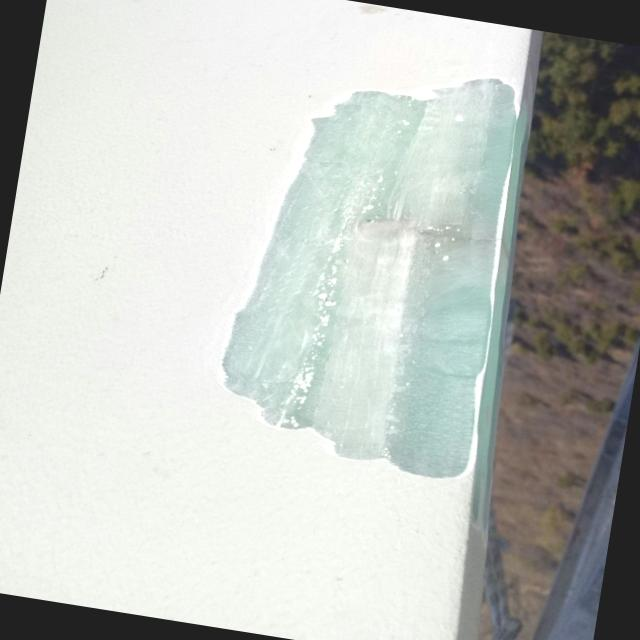surface_peeling: (203, 37, 532, 486)
